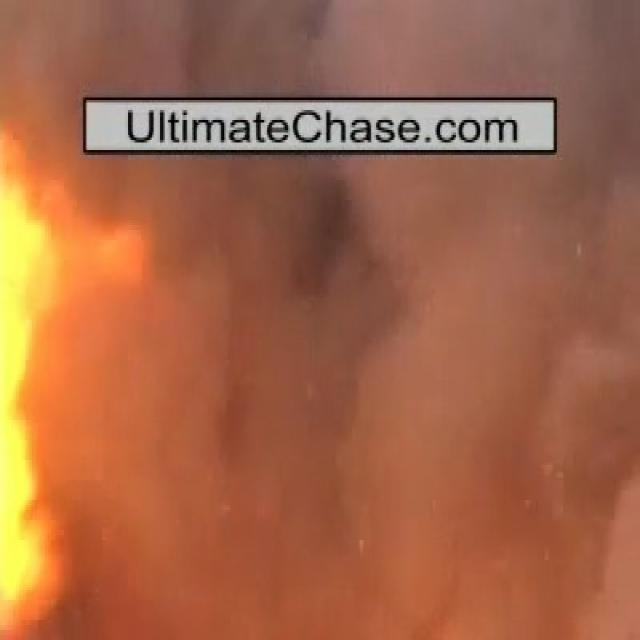Smoke: (94, 178, 552, 576)
